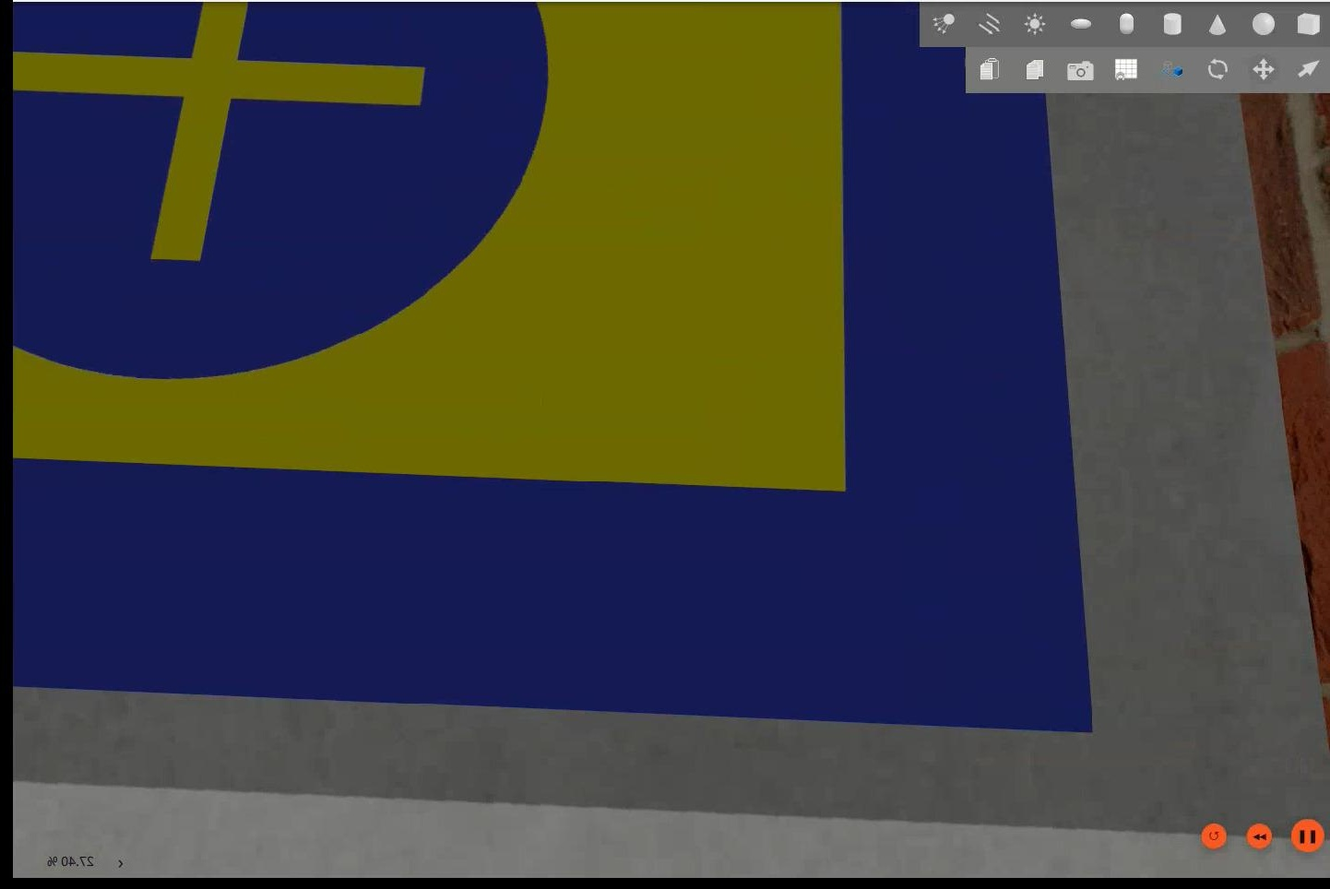large_base: (13, 1, 1090, 728)
